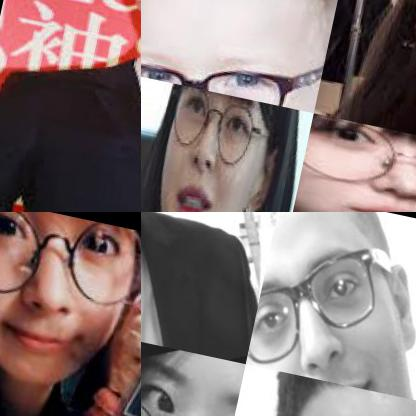Glasses: (0, 212, 140, 336)
glasses: (245, 216, 415, 394), (141, 38, 308, 110), (300, 118, 415, 211), (141, 329, 246, 415), (160, 83, 266, 167), (383, 5, 415, 115)
